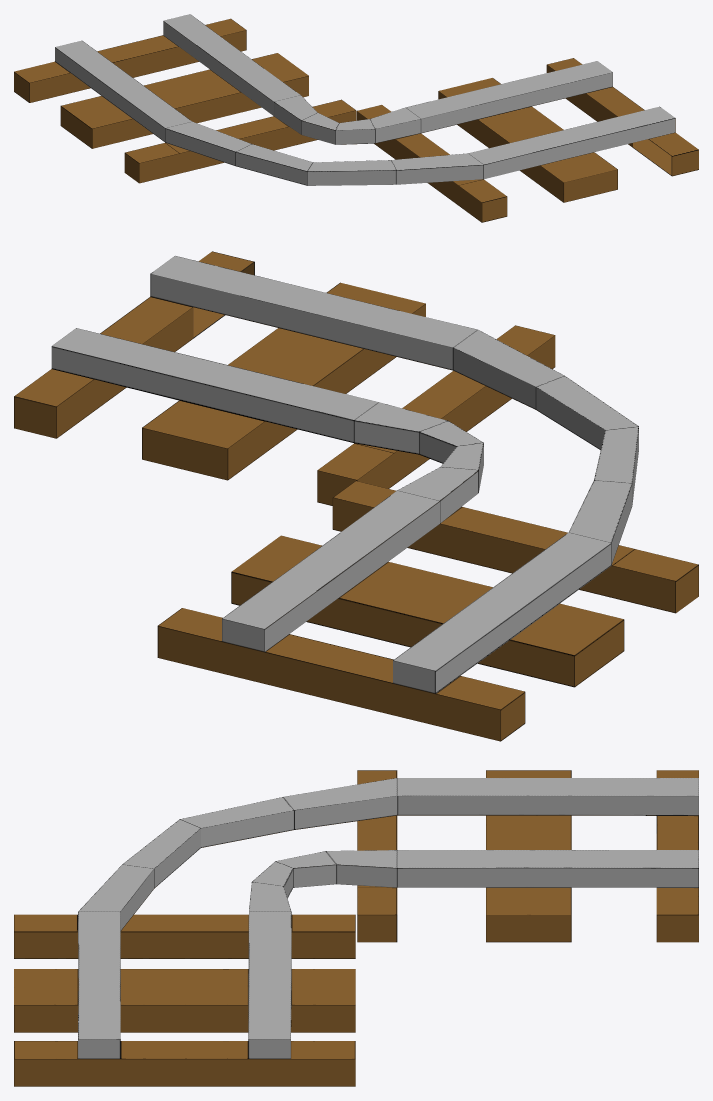
The model's file is rail_curve.obj.
The picture shows the model from 3 angles, top to bottom: view 1: azimuth 30°, elevation 25°; view 2: azimuth 150°, elevation 25°; view 3: azimuth 270°, elevation 25°; orthographic projection. The views are drawn at different scales.
Visible parts, largest first — view 1: rail_curve_Cube.013; view 2: rail_curve_Cube.013; view 3: rail_curve_Cube.013.
Part boxes in pixels (left/top/right/bottom): rail_curve_Cube.013: left=14, top=14, right=698, bottom=222; rail_curve_Cube.013: left=14, top=251, right=698, bottom=741; rail_curve_Cube.013: left=14, top=770, right=698, bottom=1086.
Bounding box in the file's own units: 4 × 0.3049 × 4.01.
1 material, 1 textured.
